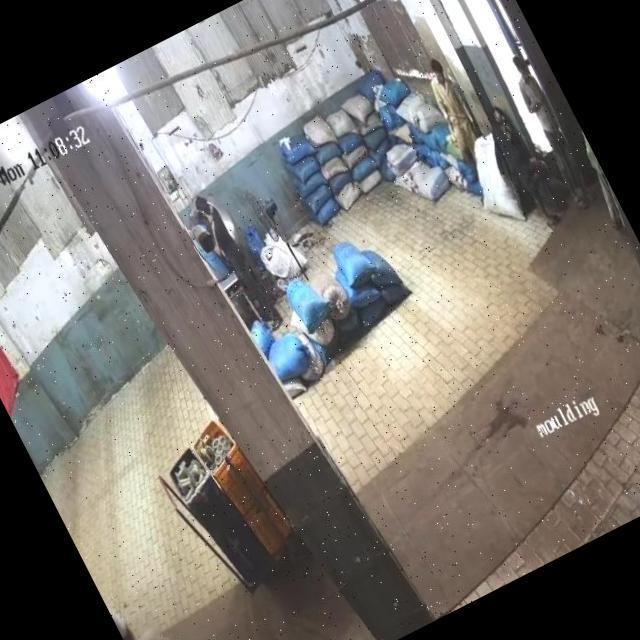person: (195, 187, 279, 329), (503, 48, 587, 184), (106, 571, 245, 640), (486, 93, 560, 204), (419, 56, 483, 150)
